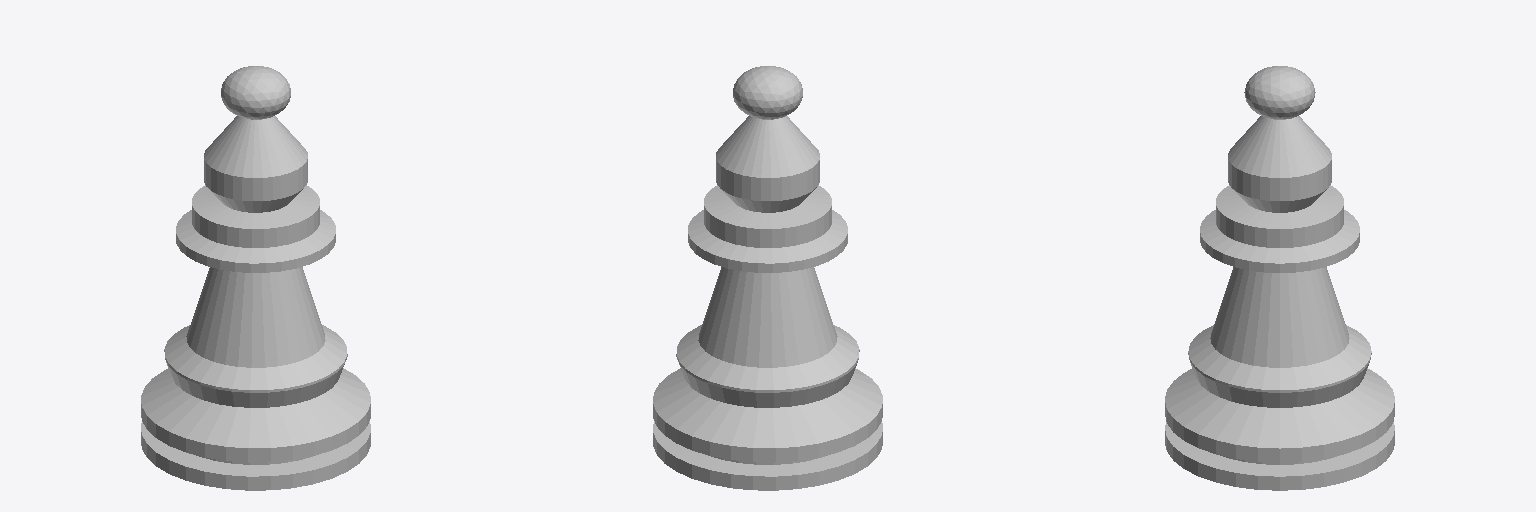
The model's file is Bishop_Black.obj.
3 views of the same model, side by side, from view 1: azimuth 30°, elevation 25°; view 2: azimuth 150°, elevation 25°; view 3: azimuth 270°, elevation 25° (orthographic).
Visible parts, largest first — view 1: ChessBishop; view 2: ChessBishop; view 3: ChessBishop.
Part boxes in pixels (left/top/right/bottom): ChessBishop: left=141, top=66, right=370, bottom=490; ChessBishop: left=653, top=66, right=882, bottom=490; ChessBishop: left=1165, top=66, right=1394, bottom=490.
Size of the model in its own units: 1.25 by 2.23 by 1.25.